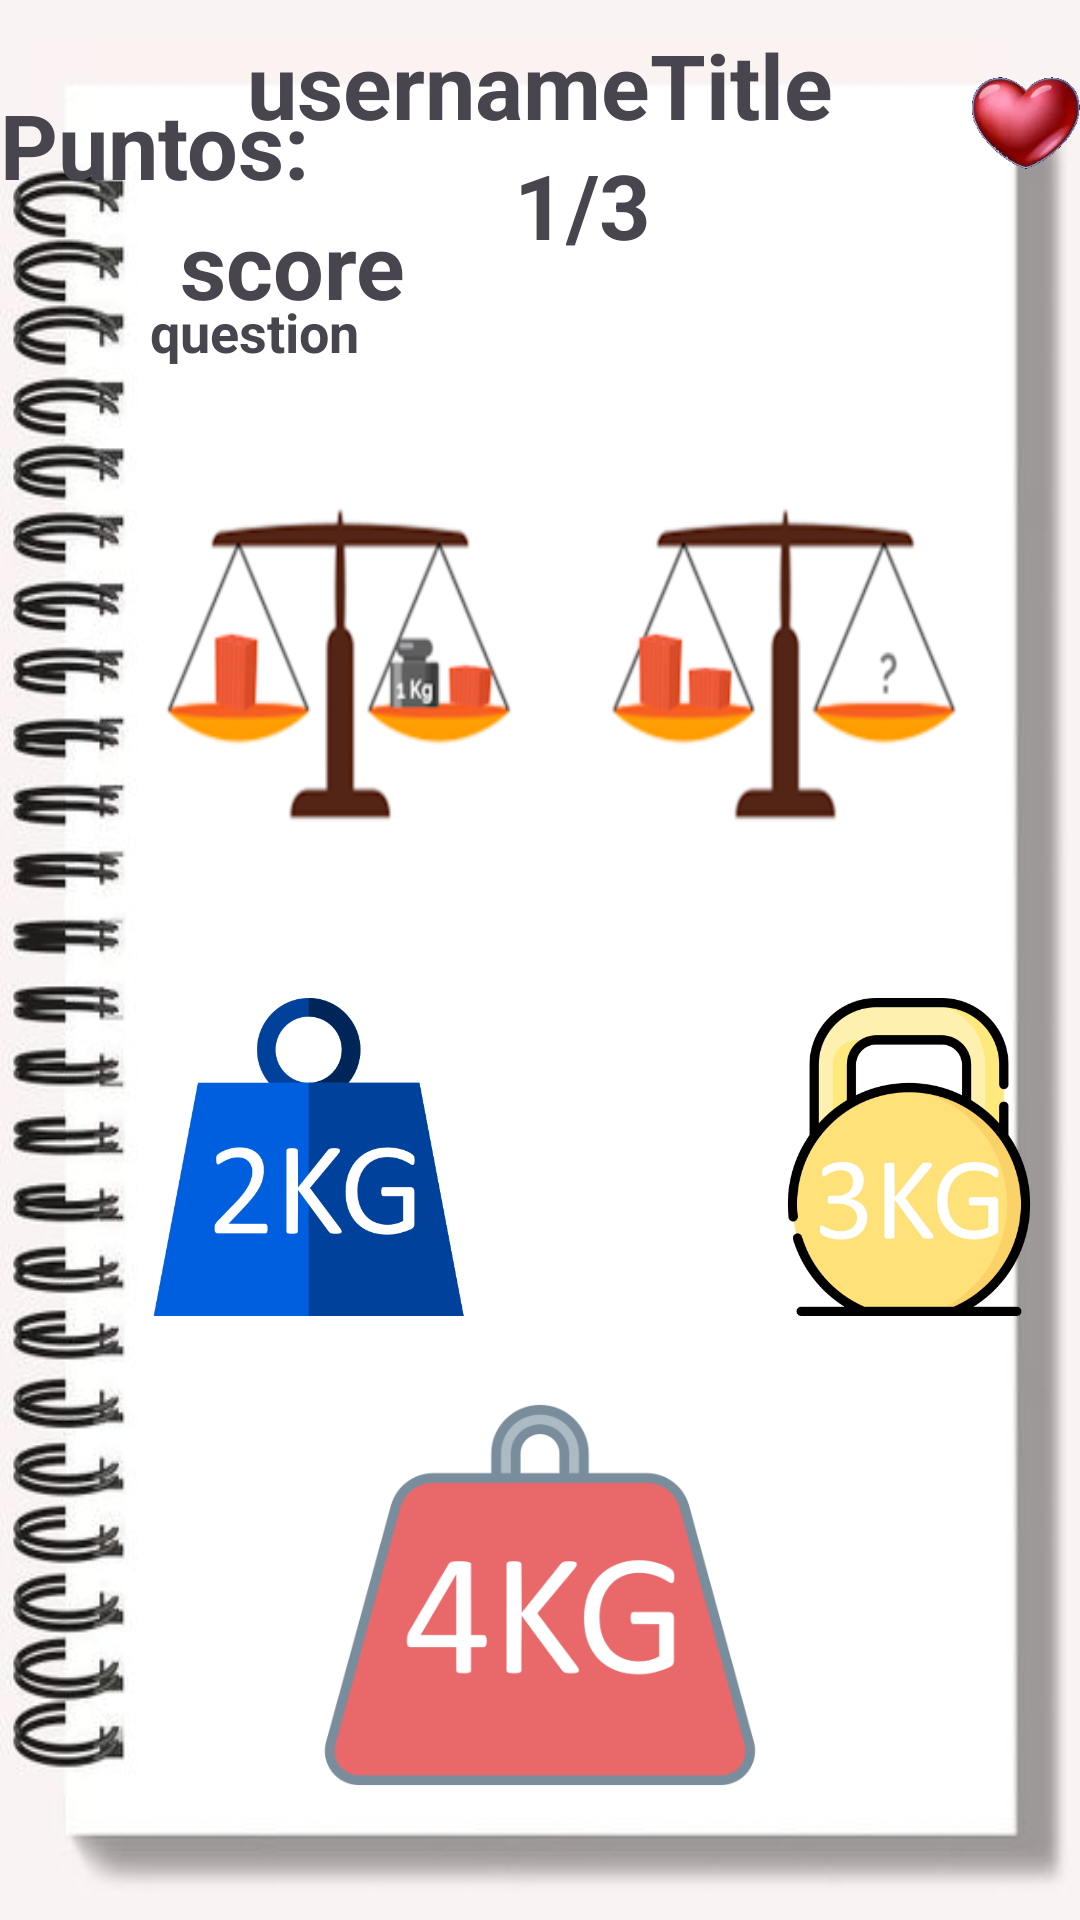

Screen size 1080*1920. Icon name, then its center in pixels as [x,y]:
life: [1026,146]
